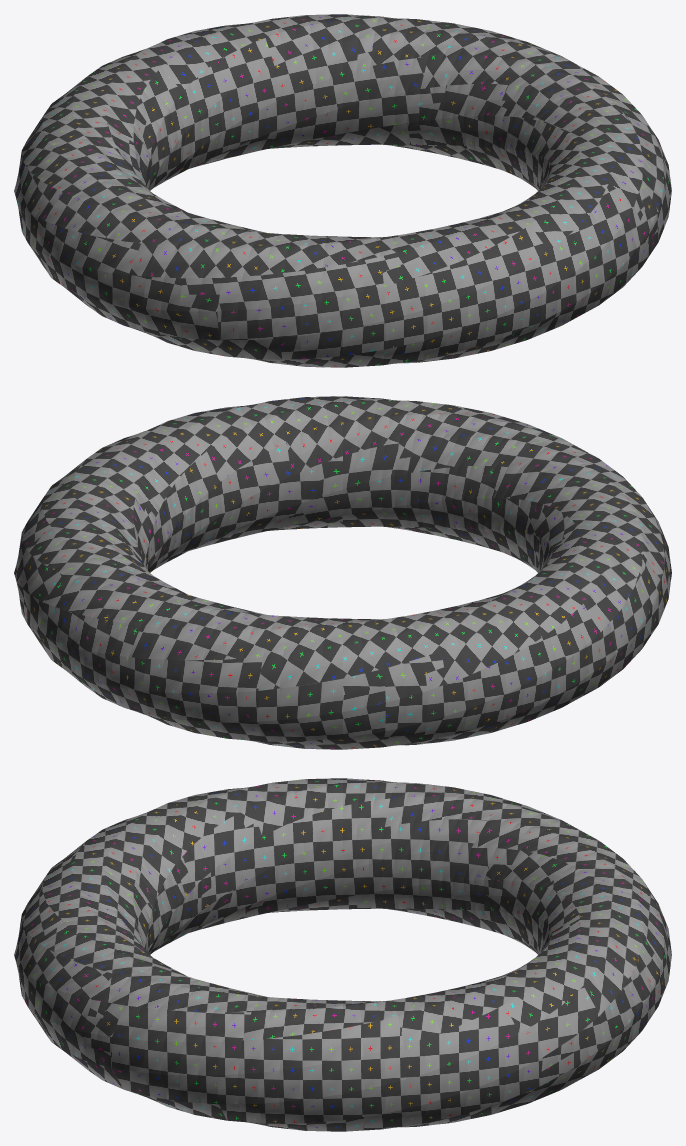
The model's file is twistedtorus_uv.gltf.
3 renders of one model, top to bottom at view 1: azimuth 30°, elevation 25°; view 2: azimuth 150°, elevation 25°; view 3: azimuth 270°, elevation 25°, orthographic.
Visible parts, largest first — view 1: TwistedTorus; view 2: TwistedTorus; view 3: TwistedTorus.
Part boxes in pixels (x1=…): TwistedTorus: x1=14, y1=14, x2=671, y2=367; TwistedTorus: x1=14, y1=396, x2=671, y2=749; TwistedTorus: x1=14, y1=778, x2=671, y2=1131.
Size of the model in its own units: 2.5 by 0.5 by 2.5.
1 material, 1 textured.
